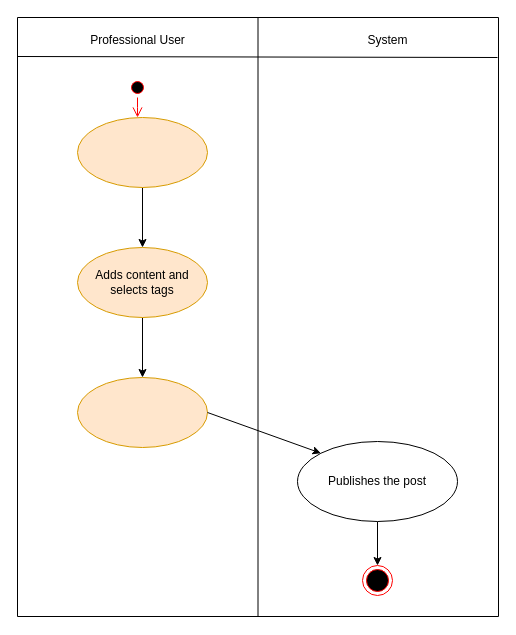
This 516x635 diagram has some shape labels left out. Each missing label, with the box of its shape:
Creates a new post: (76, 116, 208, 188)
Submits the post: (76, 376, 208, 448)
